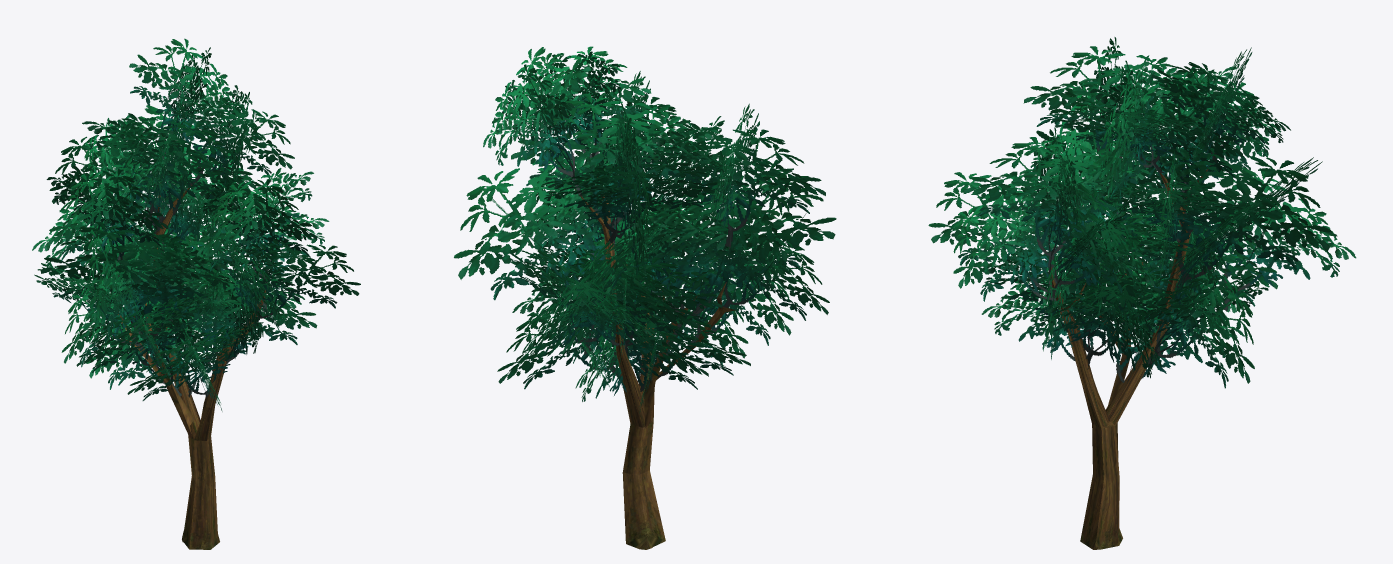
The model's file is furni_0200935.FBX.
3 renders of one model, left to right at view 1: azimuth 30°, elevation 25°; view 2: azimuth 150°, elevation 25°; view 3: azimuth 270°, elevation 25°, orthographic. The views are drawn at different scales.
Parts seen in each view (by area): view 1: furni_0200935; view 2: furni_0200935; view 3: furni_0200935.
Part boxes in pixels (left/top/right/bottom): furni_0200935: left=32, top=38, right=360, bottom=549; furni_0200935: left=454, top=46, right=836, bottom=549; furni_0200935: left=928, top=37, right=1356, bottom=549.
Size of the model in its own units: 313 by 473 by 385.
1 material, 1 textured.
